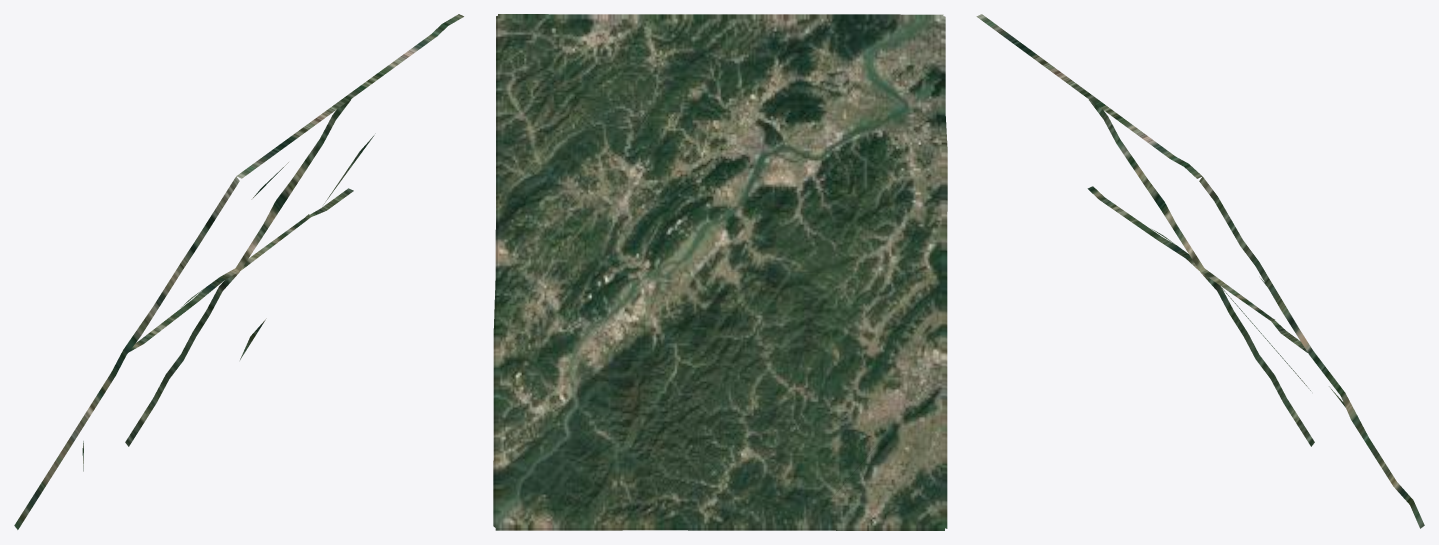
3 views of the same model, side by side, from view 1: azimuth 30°, elevation 25°; view 2: azimuth 150°, elevation 25°; view 3: azimuth 270°, elevation 25° (orthographic).
Size of the model in its own units: 79192 by 68786 by 68637.
1 material, 1 textured.
